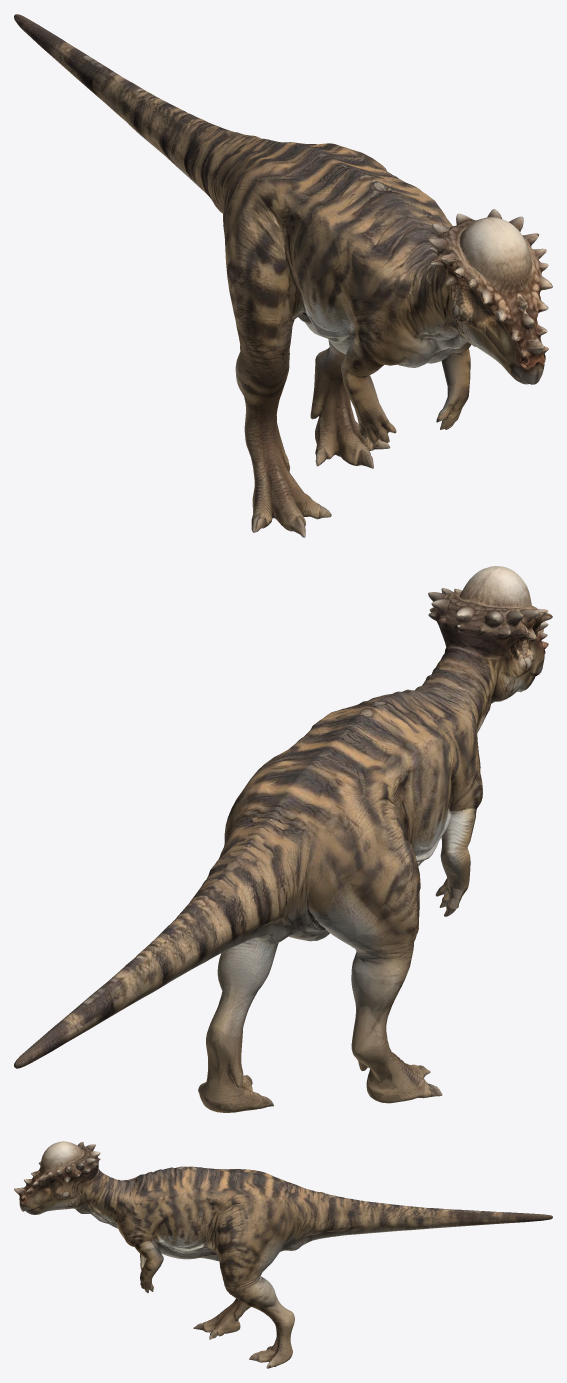
File: pachy.glb
The picture shows the model from 3 angles, top to bottom: view 1: azimuth 30°, elevation 25°; view 2: azimuth 150°, elevation 25°; view 3: azimuth 270°, elevation 25°; orthographic projection. The views are drawn at different scales.
Size of the model in its own units: 0.3948 by 0.7908 by 1.9.
1 material, 1 textured.
